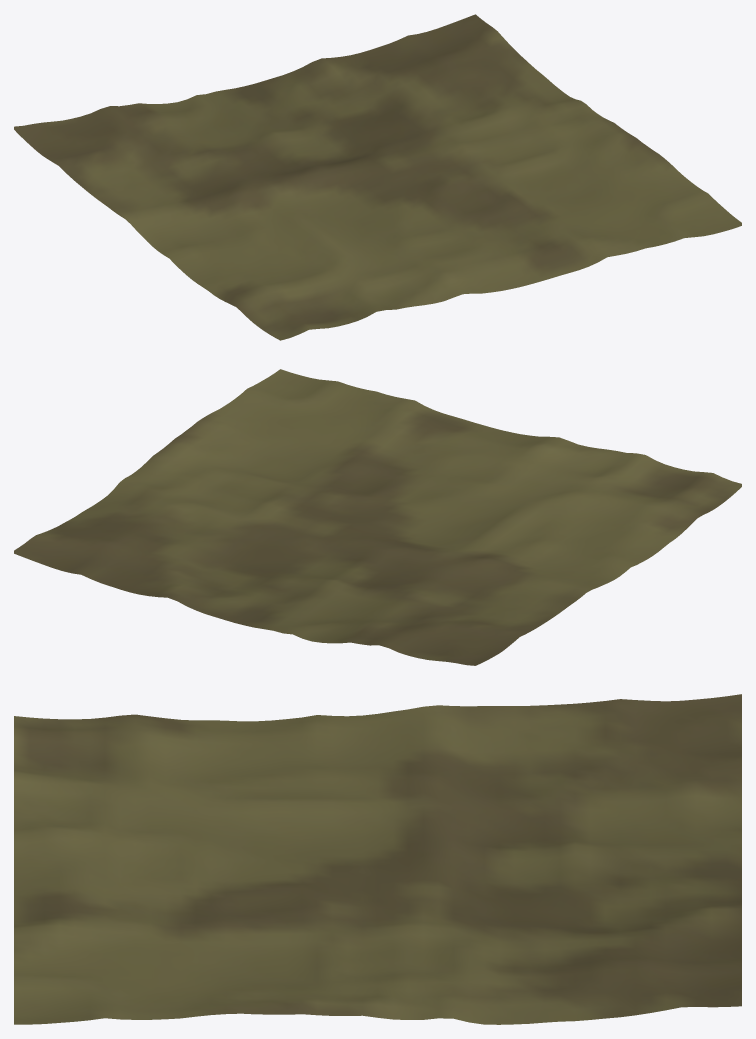
The model's file is land_m_12_02.glb.
3 renders of one model, top to bottom at view 1: azimuth 30°, elevation 25°; view 2: azimuth 150°, elevation 25°; view 3: azimuth 270°, elevation 25°, orthographic. The views are drawn at different scales.
Parts seen in each view (by area): view 1: land_m_12_02; view 2: land_m_12_02; view 3: land_m_12_02.
Part boxes in pixels (left/top/right/bottom): land_m_12_02: left=14, top=14, right=741, bottom=340; land_m_12_02: left=14, top=369, right=741, bottom=665; land_m_12_02: left=14, top=694, right=741, bottom=1024.
Size of the model in its own units: 960 by 47.69 by 960.
